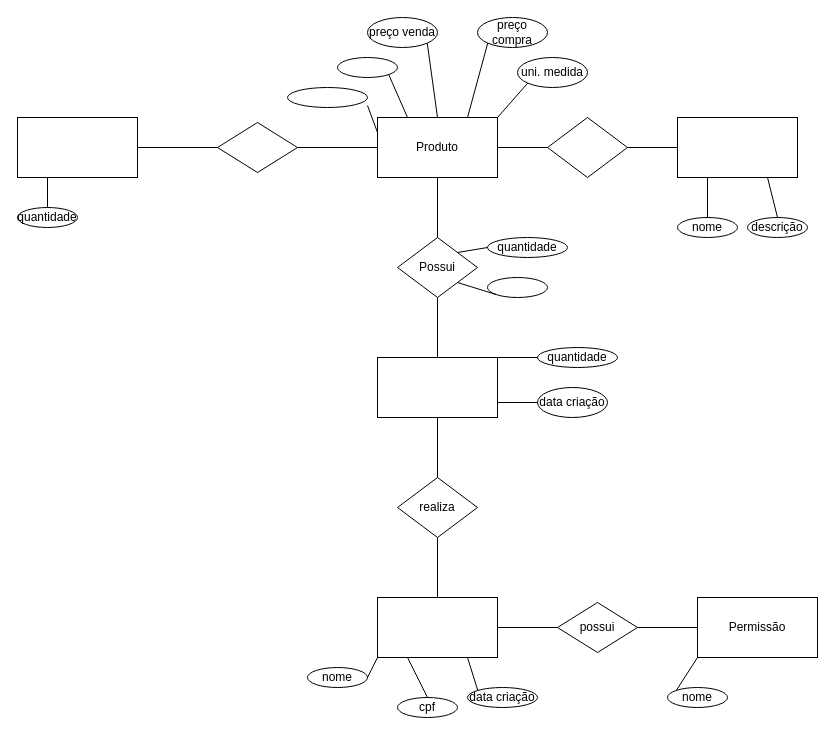
The diagram is 835 pixels wide and 735 high, and some of its shapes have lost their labels. Here are the shapes that lost their labels. From the top down, the box of each, then its label:
(336, 56, 398, 78): rfid
(286, 86, 368, 108): cod. barras
(16, 116, 138, 178): Estoque
(216, 122, 298, 172): tem
(546, 116, 628, 178): é da
(676, 116, 798, 178): Categoria
(486, 276, 548, 298): preço
(376, 356, 498, 418): Venda
(376, 596, 498, 658): Usuário
